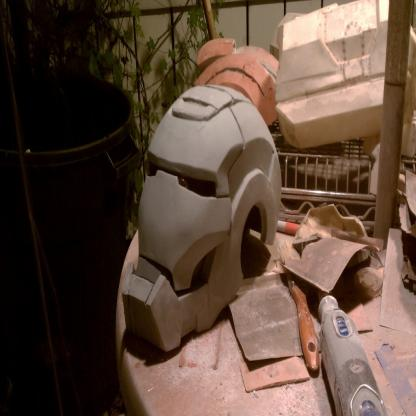Helmet: (121, 83, 282, 347)
